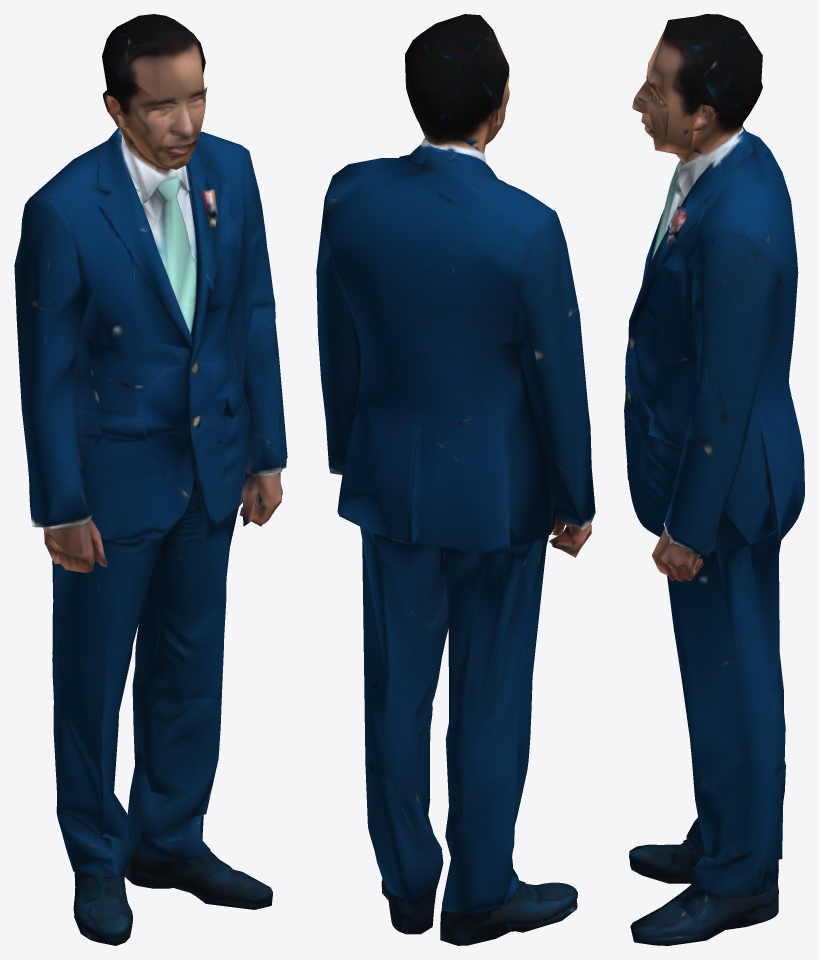
File: pojok.glb
3 renders of one model, left to right at view 1: azimuth 30°, elevation 25°; view 2: azimuth 150°, elevation 25°; view 3: azimuth 270°, elevation 25°, orthographic.
Parts seen in each view (by area): view 1: node_0; view 2: node_0; view 3: node_0.
Part boxes in pixels (bbox=[...]): node_0: bbox=[14, 14, 287, 945]; node_0: bbox=[316, 14, 595, 945]; node_0: bbox=[624, 14, 804, 945].
Bounding box in the file's own units: 0.3501 × 1.17 × 0.2154.
1 material, 1 textured.
